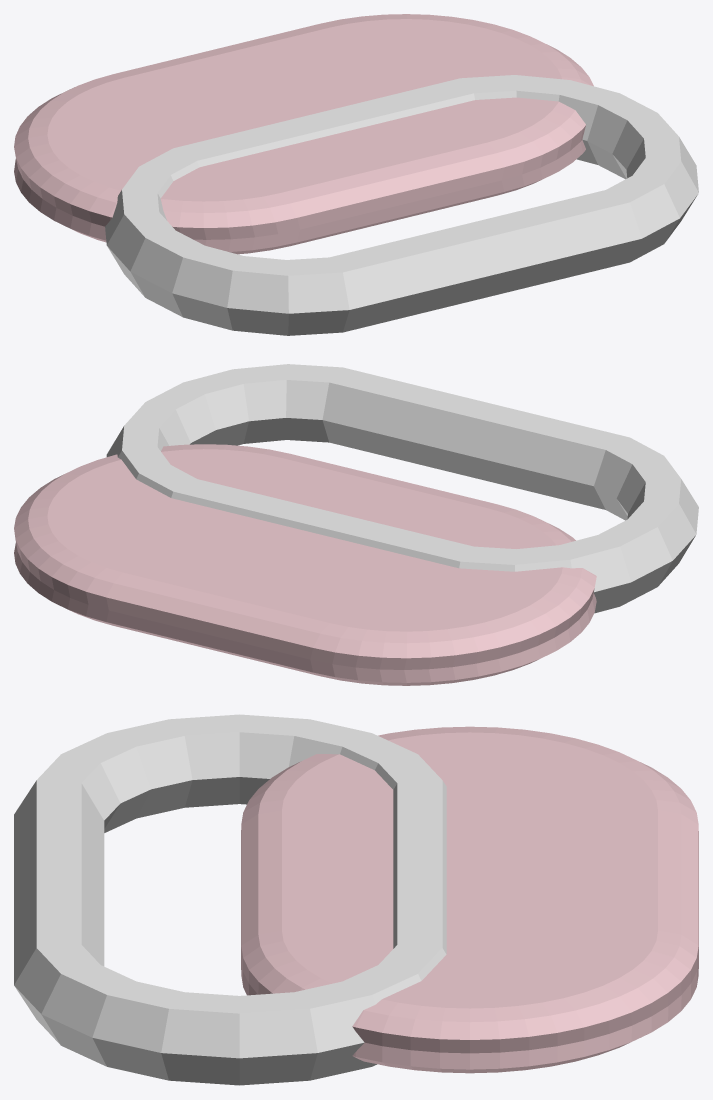
The model's file is moreComplex.gltf.
The picture shows the model from 3 angles, top to bottom: view 1: azimuth 30°, elevation 25°; view 2: azimuth 150°, elevation 25°; view 3: azimuth 270°, elevation 25°; orthographic projection. The views are drawn at different scales.
Visible parts, largest first — view 1: Torus.001, Torus; view 2: Torus.001, Torus; view 3: Torus.001, Torus.
Part boxes in pixels (left/top/right/bottom): Torus.001: left=14, top=14, right=593, bottom=254; Torus: left=105, top=75, right=698, bottom=335; Torus.001: left=14, top=444, right=596, bottom=685; Torus: left=106, top=364, right=698, bottom=613; Torus.001: left=241, top=726, right=698, bottom=1073; Torus: left=14, top=714, right=446, bottom=1085.
Bounding box in the file's own units: 4.09 × 0.433 × 3.74.
